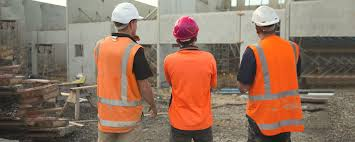hard hat: (109, 2, 144, 25), (251, 5, 280, 27), (172, 17, 199, 40)
high-vis: (247, 35, 304, 133), (94, 35, 143, 134)
